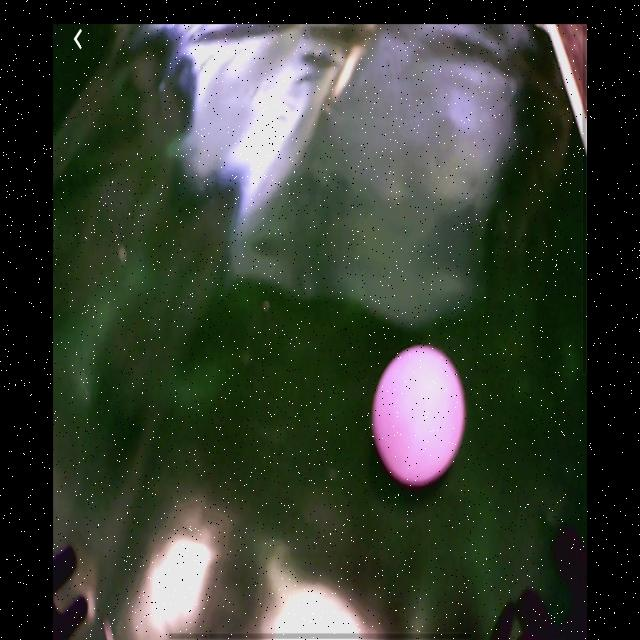ball: (372, 345, 469, 485)
